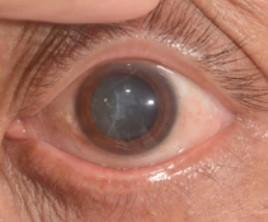eye: (75, 61, 178, 155)
